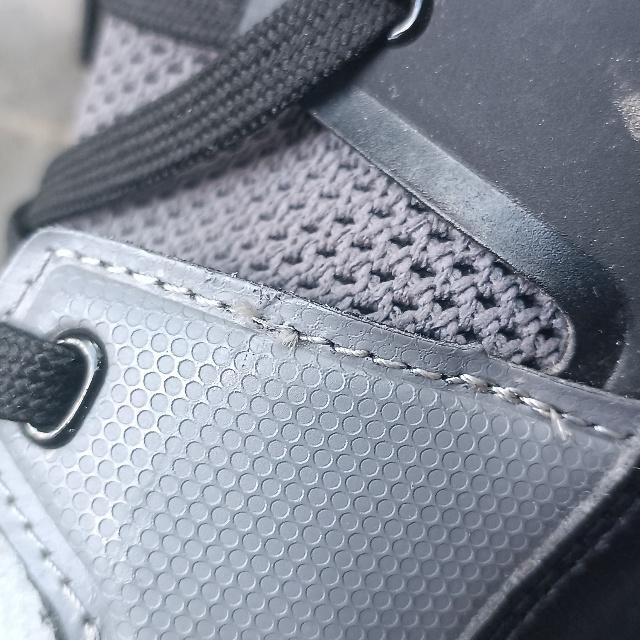broken-error: (225, 291, 307, 350)
